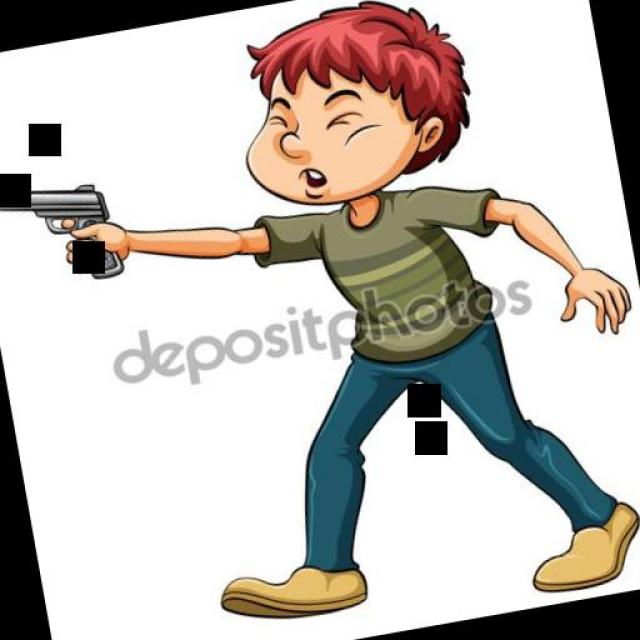gun: (0, 162, 131, 300)
